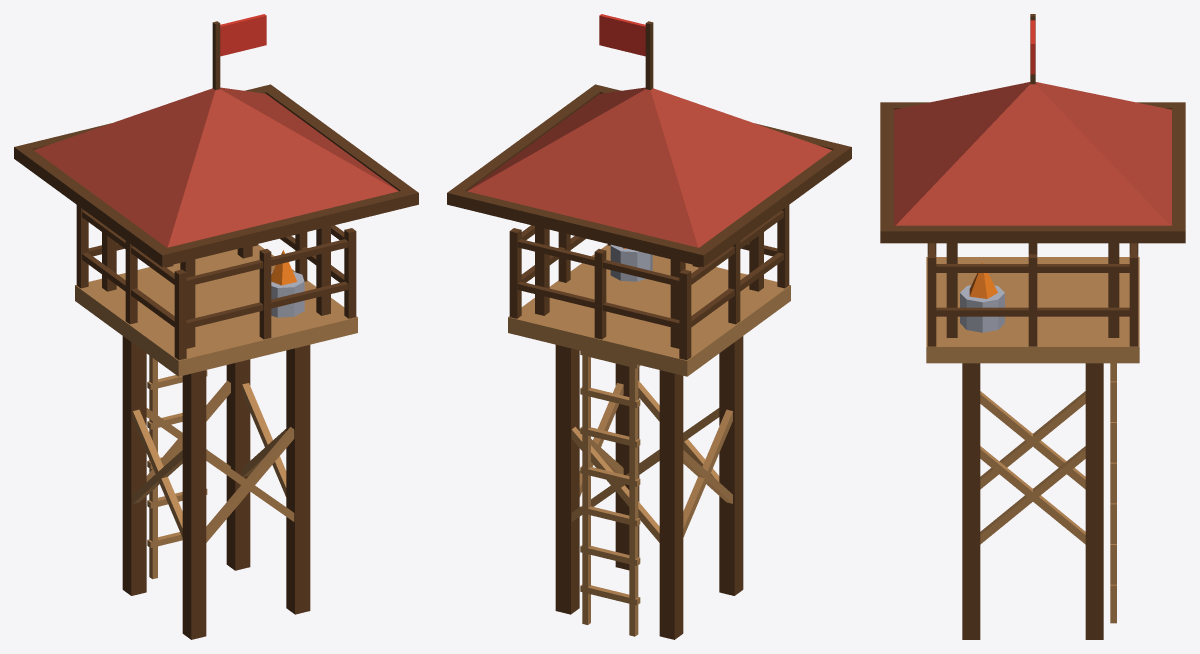
Rendered from Tower.fbx.
3 renders of one model, left to right at view 1: azimuth 30°, elevation 25°; view 2: azimuth 150°, elevation 25°; view 3: azimuth 270°, elevation 25°, orthographic. The views are drawn at different scales.
Parts seen in each view (by area): view 1: Tower; view 2: Tower; view 3: Tower.
Boxes of the visible parts, x1,y1,x2,y2 form: Tower: (14,14,418,639); Tower: (447,14,851,639); Tower: (880,14,1185,639).
Size of the model in its own units: 2.72 by 5.85 by 2.72.
